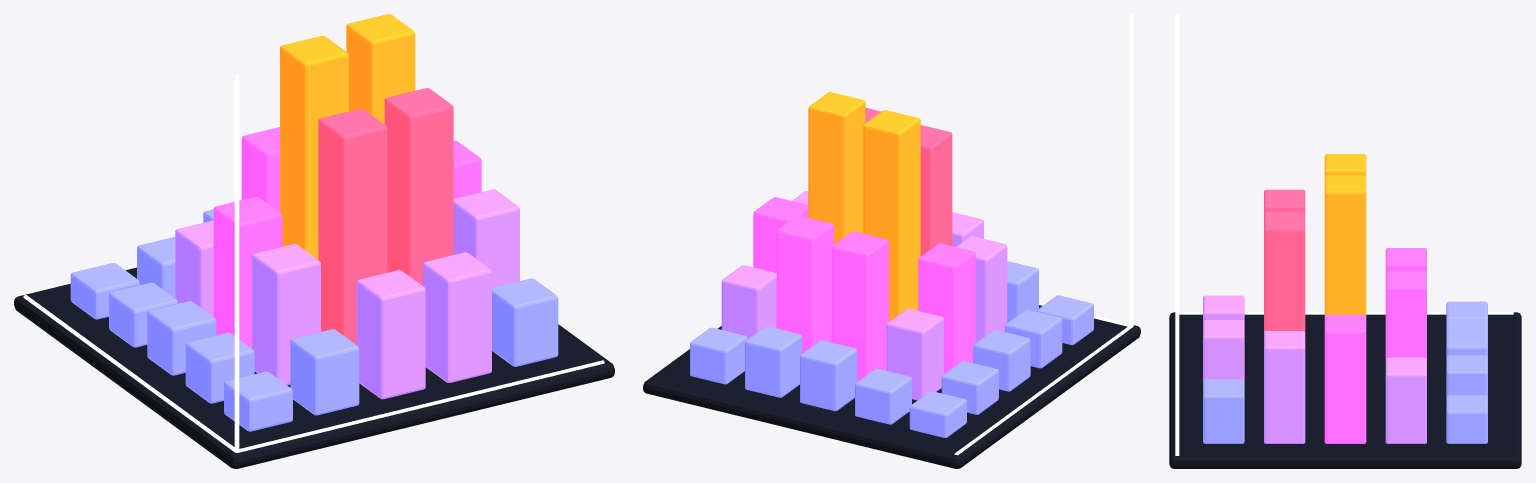
Rendered from mlviz.glb.
The picture shows the model from 3 angles, left to right: view 1: azimuth 30°, elevation 25°; view 2: azimuth 150°, elevation 25°; view 3: azimuth 270°, elevation 25°; orthographic projection. The views are drawn at different scales.
Parts seen in each view (by area): view 1: Cube, Cube.012, Cube.017, Cube.013, Cube.011, Cube.016, Cube.007, Cube.008, Cube.018, Cube.006, Cube.021, Cube.022 (+12 smaller); view 2: Cube, Cube.013, Cube.018, Cube.014, Cube.019, Cube.008, Cube.009, Cube.012, Cube.015, Cube.020, Cube.024, Cube.007 (+12 smaller); view 3: Cube, Cube.018, Cube.023, Cube.017, Cube.022, Cube.019, Cube.024, Cube.021, Cube.016, Cube.025, Cube.020, Cylinder (+9 smaller).
Part boxes in pixels (x1,y1,x2,y2): Cube: (14, 267, 614, 468); Cube.012: (318, 108, 387, 344); Cube.017: (384, 88, 453, 285); Cube.013: (280, 35, 348, 259); Cube.011: (356, 270, 425, 399); Cube.016: (423, 252, 491, 382); Cube.007: (252, 244, 320, 385); Cube.008: (213, 196, 282, 348); Cube.018: (346, 14, 415, 124); Cube.006: (290, 329, 359, 415); Cube.021: (492, 278, 558, 366); Cube.022: (453, 189, 519, 287); Cube: (643, 305, 1140, 468); Cube.013: (863, 110, 920, 321); Cube.018: (808, 92, 865, 244); Cube.014: (831, 231, 888, 381); Cube.019: (776, 215, 833, 352); Cube.008: (918, 243, 975, 373); Cube.009: (886, 308, 943, 400); Cube.012: (920, 125, 952, 255); Cube.015: (800, 340, 857, 411); Cube.020: (745, 326, 802, 397); Cube.024: (721, 265, 776, 339); Cube.007: (956, 236, 1007, 342); Cube: (1169, 312, 1521, 468); Cube.018: (1324, 175, 1366, 315); Cube.023: (1324, 314, 1366, 443); Cube.017: (1264, 211, 1305, 331); Cube.022: (1264, 331, 1305, 443); Cube.019: (1385, 271, 1426, 358); Cube.024: (1385, 357, 1426, 443); Cube.021: (1203, 379, 1244, 443); Cube.016: (1203, 320, 1244, 380); Cube.025: (1446, 395, 1487, 443); Cube.020: (1446, 355, 1487, 396); Cylinder: (1175, 14, 1179, 313).
Size of the model in its own units: 2.2 by 2.14 by 2.2.
